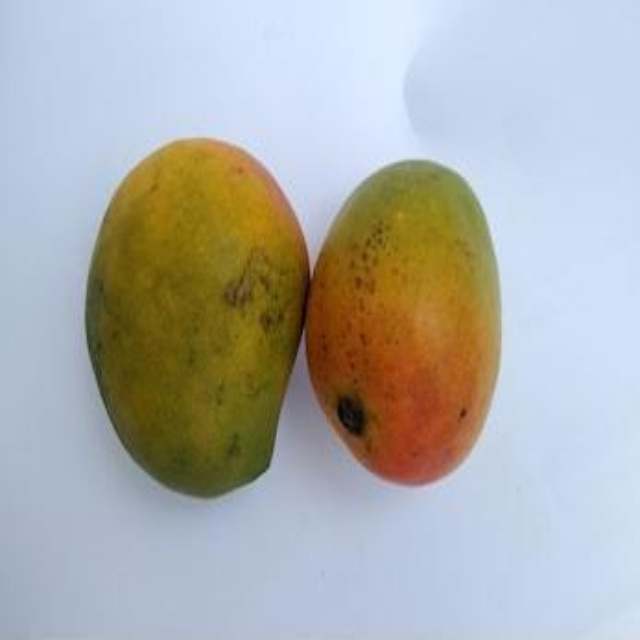mango: (86, 135, 314, 507), (303, 154, 512, 492)
